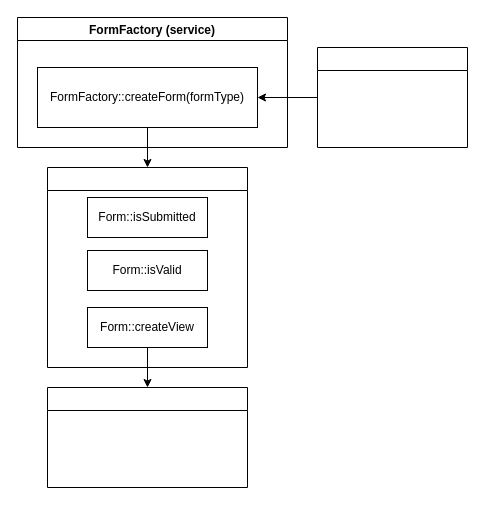
Image size: 485x505. Some labels were removed from this diagram. The box of each missing label's shape, as (x1, y1, x2, y2) in pixels:
Form (object): (46, 166, 248, 368)
FormType (Object): (316, 46, 468, 148)
FormView (Object): (46, 386, 248, 488)
